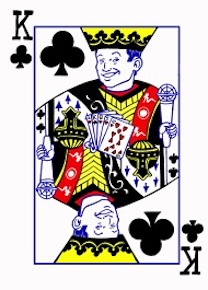KingOfClubs: (8, 4, 205, 283)
